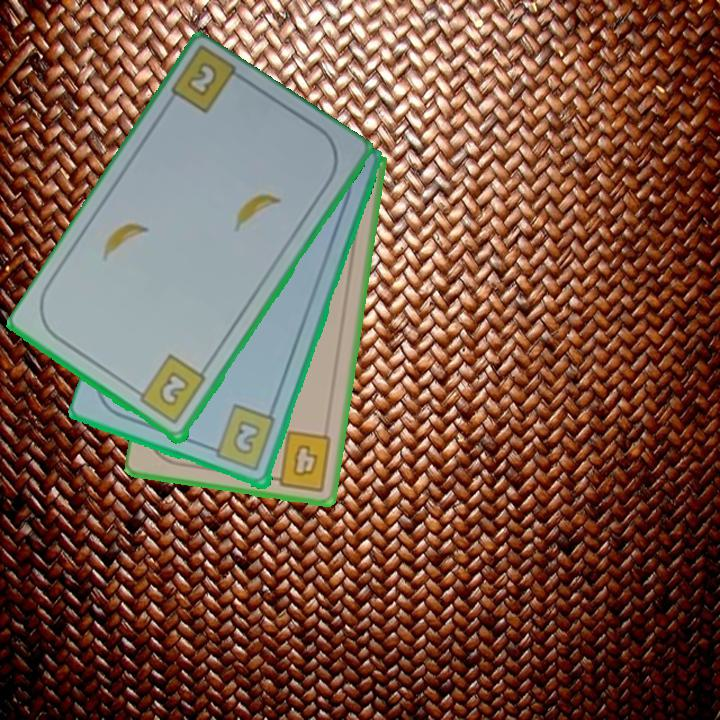2b: (130, 352, 209, 428), (204, 402, 279, 475), (183, 59, 221, 100)
4b: (265, 427, 335, 494)
